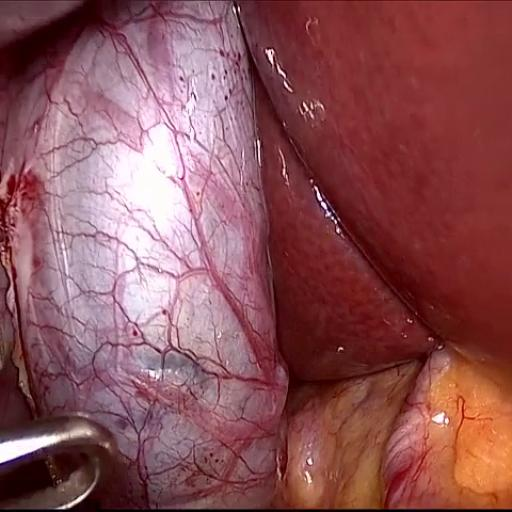Grasper: (0, 371, 132, 512)
